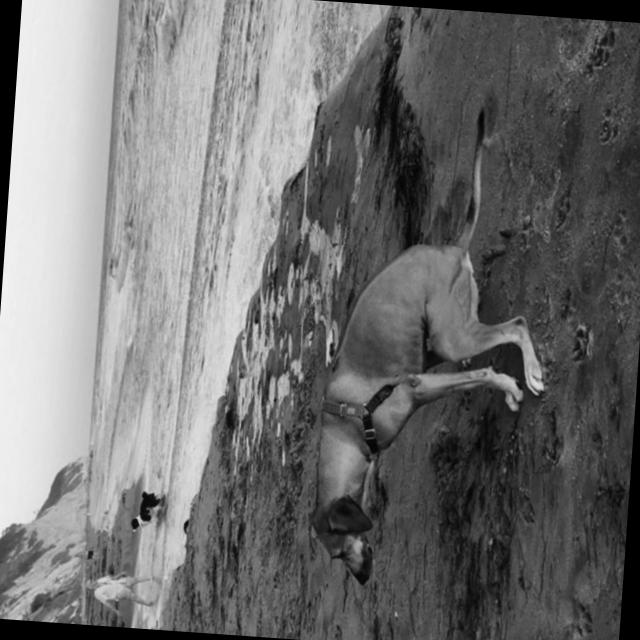squatting: (287, 86, 565, 612)
